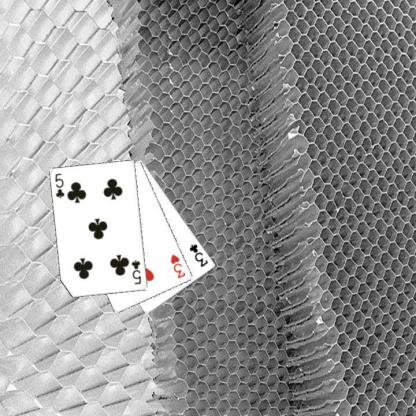3C: (187, 242, 210, 269)
3H: (168, 252, 187, 280)
5C: (52, 171, 66, 199), (129, 258, 143, 285)
